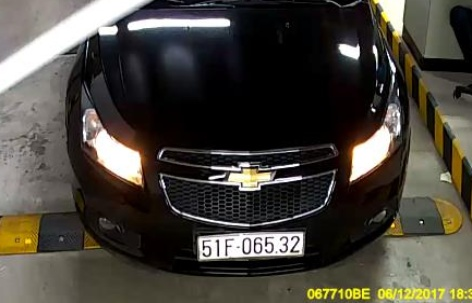plate: (189, 224, 310, 261)
